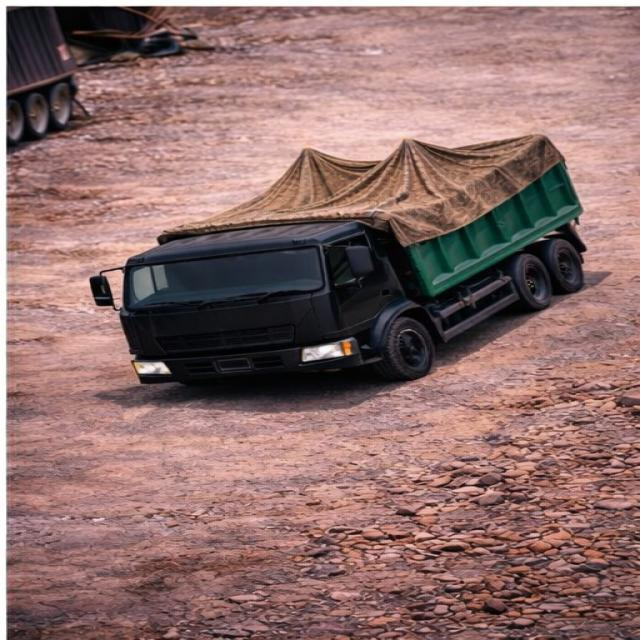Box: (159, 134, 552, 234)
Truck: (85, 116, 570, 400)
